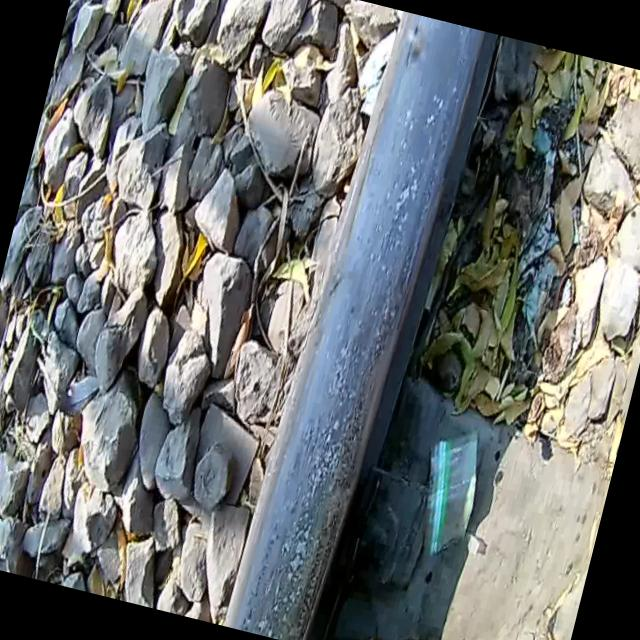Squats: (215, 2, 505, 640)
